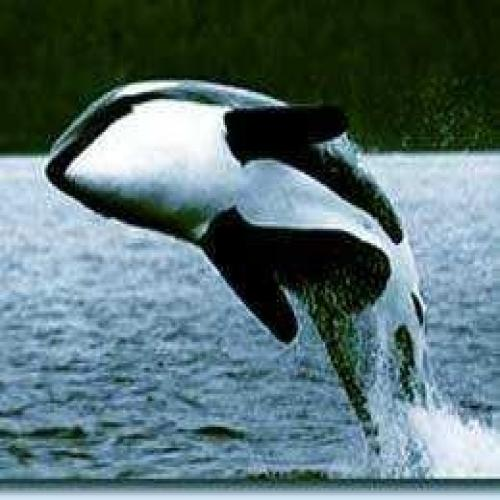killer_whale-endangered: (41, 41, 473, 443)
